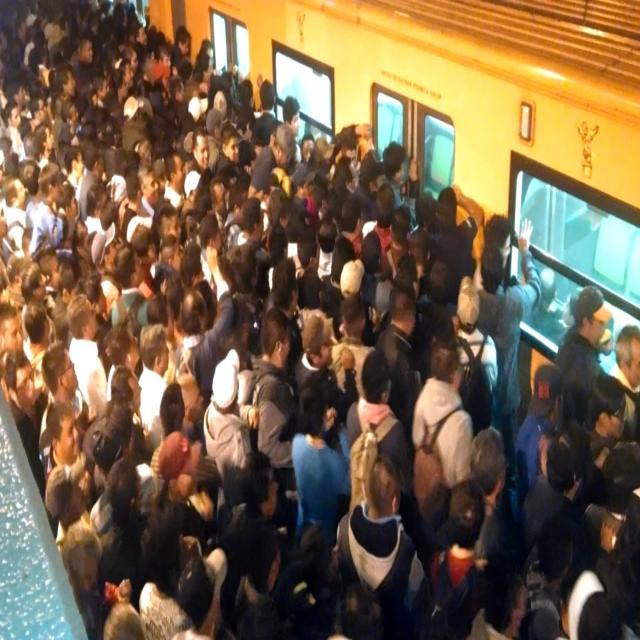body: (1, 0, 524, 367), (536, 384, 616, 639), (477, 218, 542, 528), (138, 431, 227, 639), (338, 454, 428, 640), (222, 448, 305, 640), (452, 427, 520, 640), (163, 337, 222, 563), (410, 336, 474, 537), (252, 308, 304, 552), (346, 348, 412, 514), (290, 382, 352, 548), (46, 518, 130, 640), (294, 312, 361, 455), (594, 439, 640, 640), (202, 347, 253, 516), (525, 439, 586, 580), (514, 364, 564, 526), (554, 285, 610, 422), (454, 273, 499, 443), (428, 478, 486, 606), (38, 340, 87, 483), (175, 297, 235, 409), (533, 376, 589, 491), (65, 291, 111, 429), (38, 398, 81, 538), (234, 527, 282, 640), (464, 556, 528, 640), (326, 306, 379, 399), (110, 363, 157, 467), (299, 523, 341, 639), (136, 321, 172, 448), (174, 288, 214, 400), (178, 550, 228, 638), (604, 324, 640, 445), (580, 380, 627, 470), (44, 462, 90, 548), (4, 358, 47, 448), (89, 426, 125, 533), (108, 405, 156, 484), (148, 380, 186, 479), (130, 533, 178, 610), (482, 212, 528, 288), (376, 290, 420, 366), (178, 240, 216, 326), (22, 303, 52, 403), (20, 308, 53, 397), (19, 272, 56, 347), (0, 308, 24, 352)
